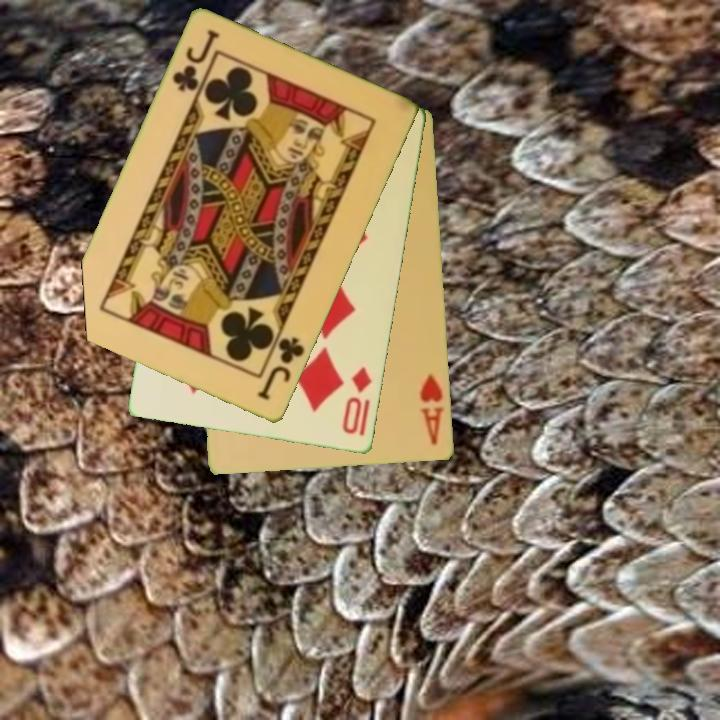10d: (339, 364, 375, 438)
Ah: (417, 370, 448, 448)
Jc: (254, 334, 308, 404), (169, 26, 223, 96)
